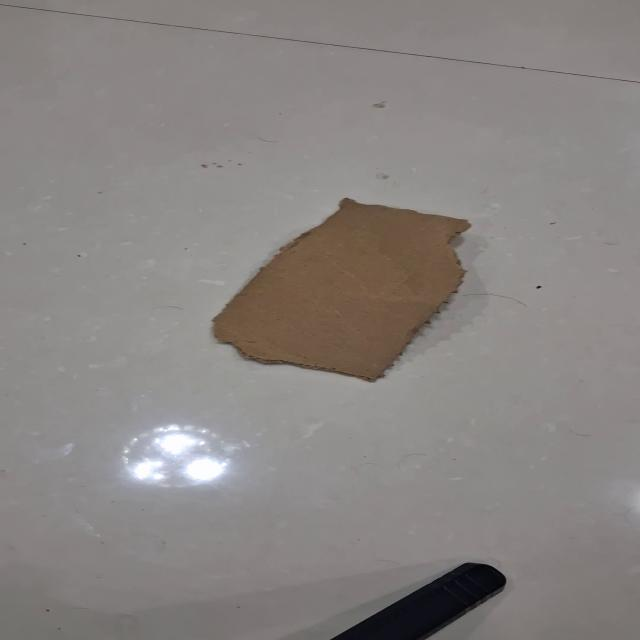paper: (209, 196, 472, 383)
